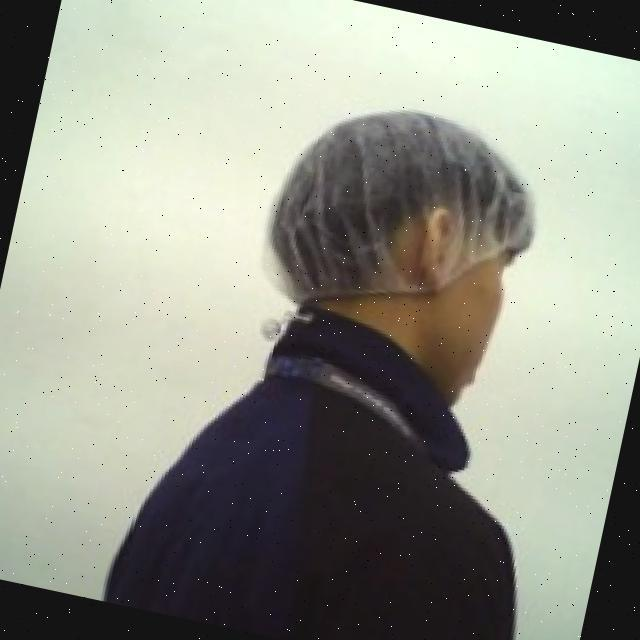gloves: (247, 73, 566, 358)
